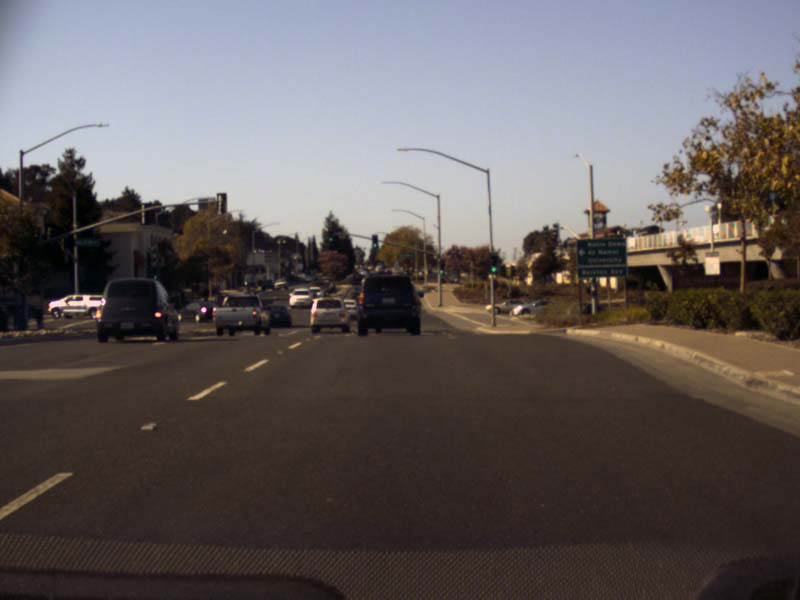Green: (489, 255, 496, 272), (327, 229, 333, 242), (439, 259, 444, 274), (372, 234, 376, 248), (153, 273, 157, 279)
